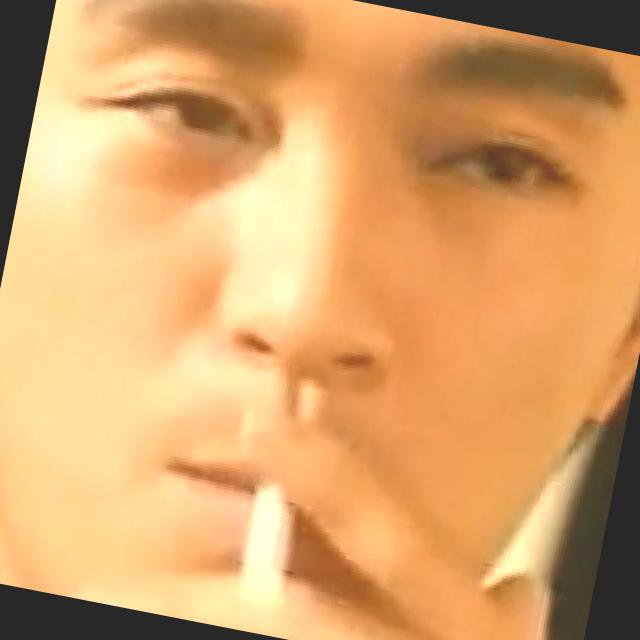smoke: (218, 470, 321, 616)
